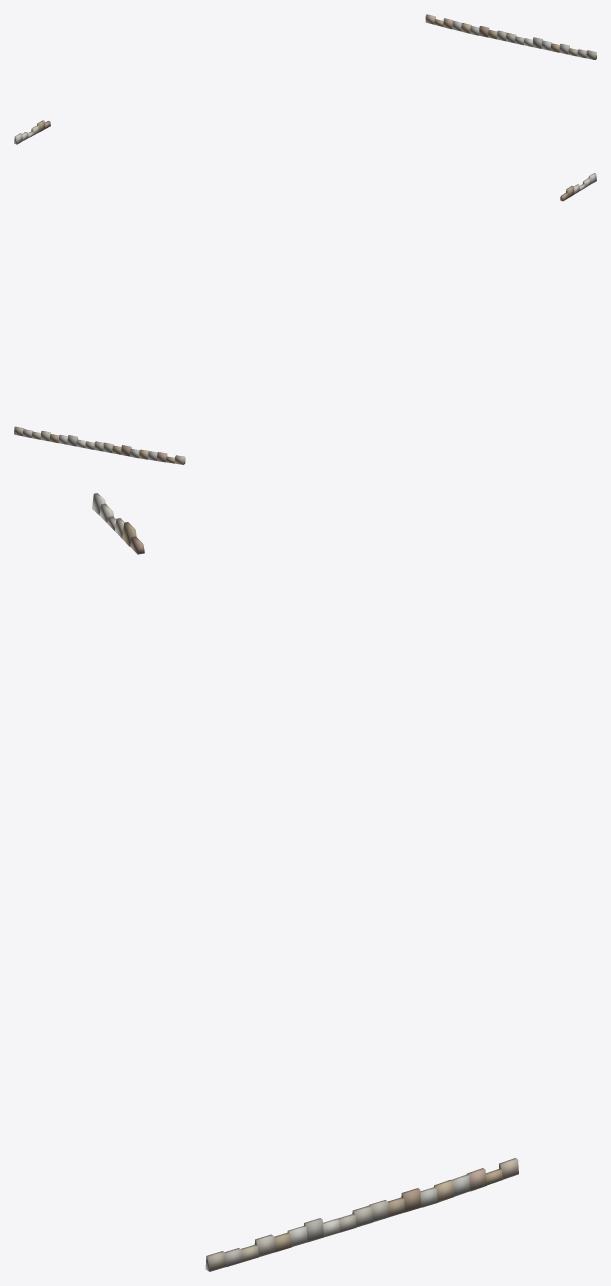
Rendered from farm_23_21_collision.glb.
3 views of the same model, one above another, from view 1: azimuth 30°, elevation 25°; view 2: azimuth 210°, elevation 25°; view 3: azimuth 270°, elevation 25° (orthographic). The views are drawn at different scales.
Parts seen in each view (by area): view 1: geometry_0; view 2: geometry_0; view 3: geometry_0.
Boxes of the visible parts, x1,y1,x2,y2 form: geometry_0: [14, 14, 596, 144]; geometry_0: [14, 173, 596, 464]; geometry_0: [92, 493, 518, 1271].
Size of the model in its own units: 112 by 16.16 by 34.02.
